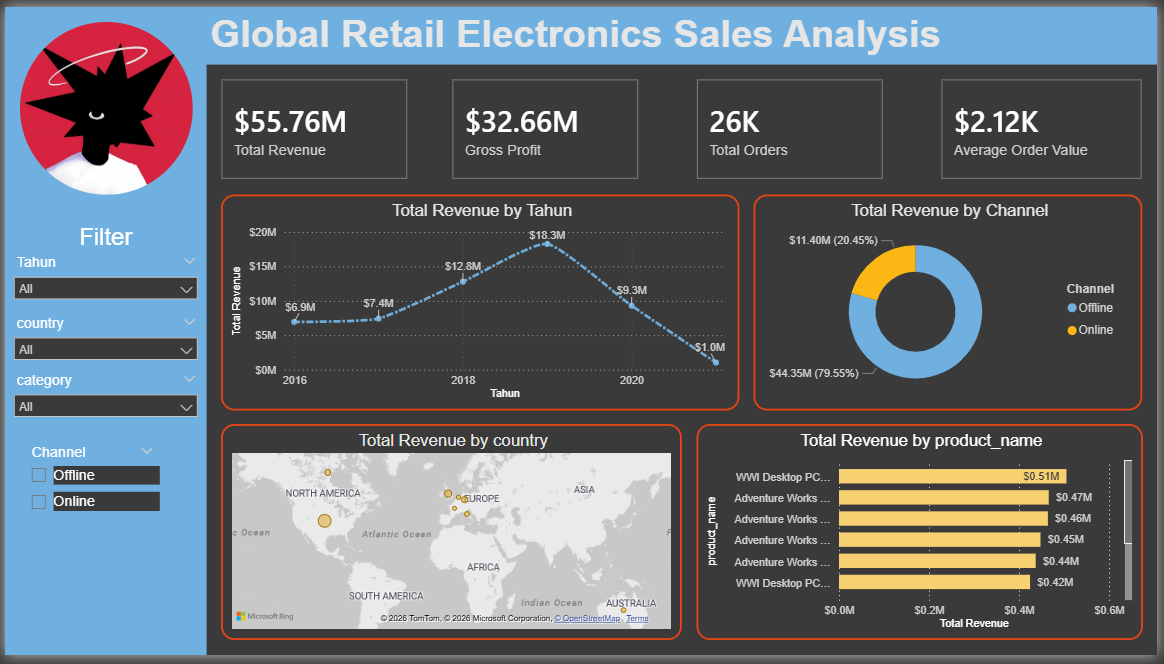

What the dashboard file says about the page in this screenshot:
{"tool":"powerbi","page":{"name":"Dashboard Utama","canvas":[1280,720],"ordinal":0},"visuals":[{"type":"cardVisual","fields":{"Data":["retail_db sales.Total Revenue"]},"box":[240,64,240,144],"z":0},{"type":"cardVisual","fields":{"Data":["retail_db sales.Total Orders"]},"box":[768,64,240,144],"z":1000},{"type":"cardVisual","fields":{"Data":["retail_db sales.Gross Profit"]},"box":[496,64,240,144],"z":2000},{"type":"cardVisual","fields":{"Data":["retail_db sales.Average Order Value"]},"box":[1024,64,240,144],"z":3000},{"type":"lineChart","fields":{"Y":["retail_db sales.Total Revenue"],"Category":["Date Table.Tahun"]},"box":[240,208,576,240],"z":4000},{"type":"map","fields":{"Category":["retail_db stores.country"],"Size":["retail_db sales.Total Revenue"]},"box":[624,464,640,240],"z":5000},{"type":"clusteredBarChart","fields":{"Category":["retail_db sales.Channel"],"Y":["retail_db sales.Total Revenue"]},"box":[832,208,432,240],"z":6000},{"type":"shape","box":[0,0,1280,64],"z":7000},{"type":"shape","box":[0,0,224,720],"z":8000},{"type":"textbox","box":[224,0,1040,64],"z":9000},{"type":"image","box":[16,16,192,192],"z":11000},{"type":"slicer","title":"Filter","fields":{"Values":["Date Table.Tahun"]},"box":[0,240,224,96],"z":12000},{"type":"slicer","fields":{"Values":["retail_db stores.country"]},"box":[0,336,224,64],"z":13000},{"type":"slicer","fields":{"Values":["retail_db products.category"]},"box":[0,400,224,64],"z":14000},{"type":"slicer","fields":{"Values":["retail_db sales.Channel"]},"box":[48,480,160,96],"z":15000},{"type":"shape","box":[1232,16,32,32],"z":15001},{"type":"shape","box":[1184,16,32,32],"z":15002},{"type":"shape","box":[1136,16,32,32],"z":15003},{"type":"donutChart","fields":{"Category":["retail_db customers.gender"],"Y":["retail_db sales.Total Revenue"]},"box":[240,464,368,240],"z":15004}]}

Visuals, with their boxes in screenshot pixels (x1, y1, x2, y2), scaled from the page's 1280x720 canvas onto the 1164x664 screenshot:
cardVisual - retail_db sales.Total Revenue: x1=218 y1=59 x2=436 y2=192
cardVisual - retail_db sales.Total Orders: x1=698 y1=59 x2=917 y2=192
cardVisual - retail_db sales.Gross Profit: x1=451 y1=59 x2=669 y2=192
cardVisual - retail_db sales.Average Order Value: x1=931 y1=59 x2=1149 y2=192
lineChart - retail_db sales.Total Revenue x Date Table.Tahun: x1=218 y1=192 x2=742 y2=413
map - retail_db stores.country x retail_db sales.Total Revenue: x1=567 y1=428 x2=1149 y2=649
clusteredBarChart - retail_db sales.Channel x retail_db sales.Total Revenue: x1=757 y1=192 x2=1149 y2=413
shape: x1=0 y1=0 x2=1163 y2=59
shape: x1=0 y1=0 x2=204 y2=663
textbox: x1=204 y1=0 x2=1149 y2=59
image: x1=15 y1=15 x2=189 y2=192
"Filter" slicer: x1=0 y1=221 x2=204 y2=310
slicer - retail_db stores.country: x1=0 y1=310 x2=204 y2=369
slicer - retail_db products.category: x1=0 y1=369 x2=204 y2=428
slicer - retail_db sales.Channel: x1=44 y1=443 x2=189 y2=531
shape: x1=1120 y1=15 x2=1149 y2=44
shape: x1=1077 y1=15 x2=1106 y2=44
shape: x1=1033 y1=15 x2=1062 y2=44
donutChart - retail_db customers.gender x retail_db sales.Total Revenue: x1=218 y1=428 x2=553 y2=649
